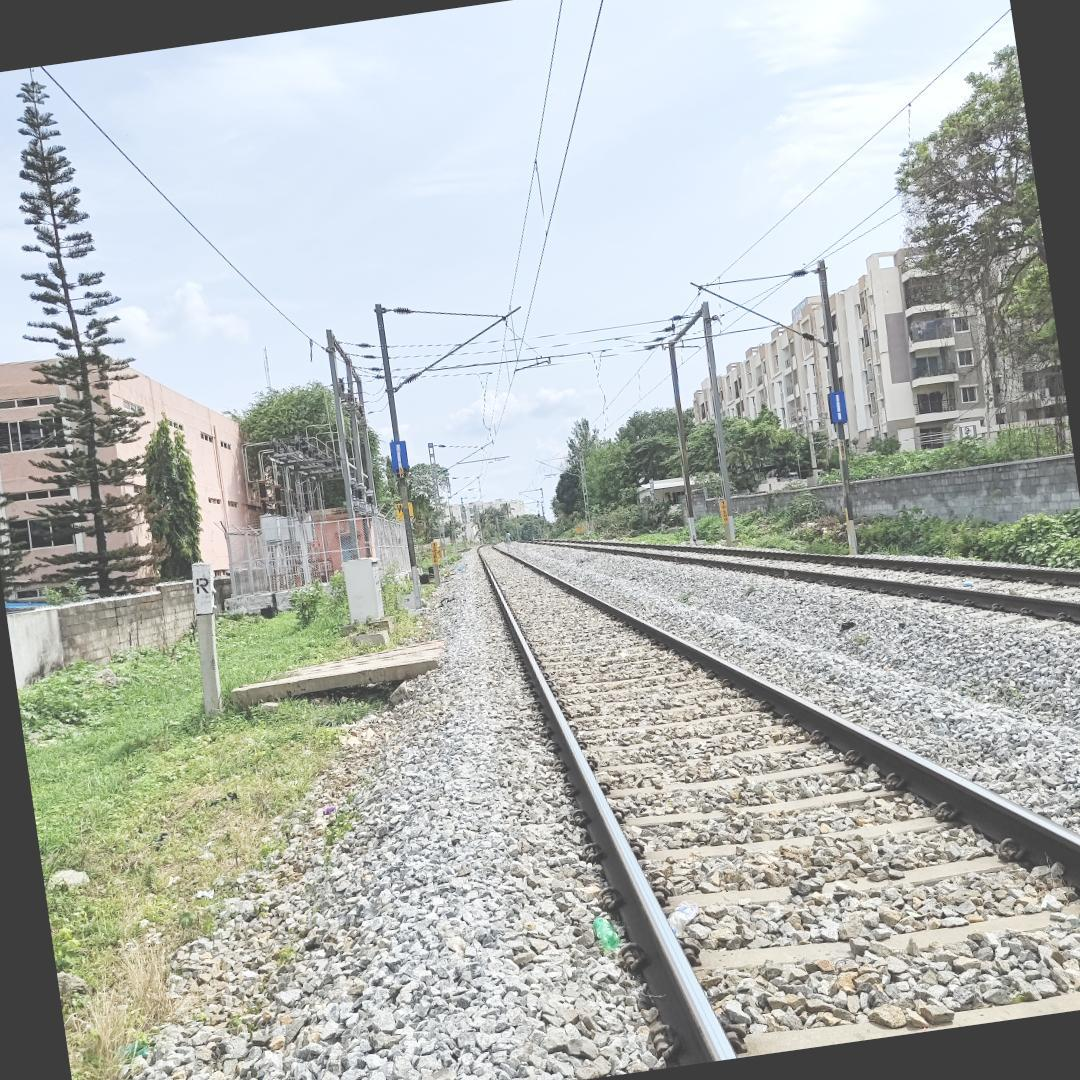track: (464, 539, 1080, 1079)
